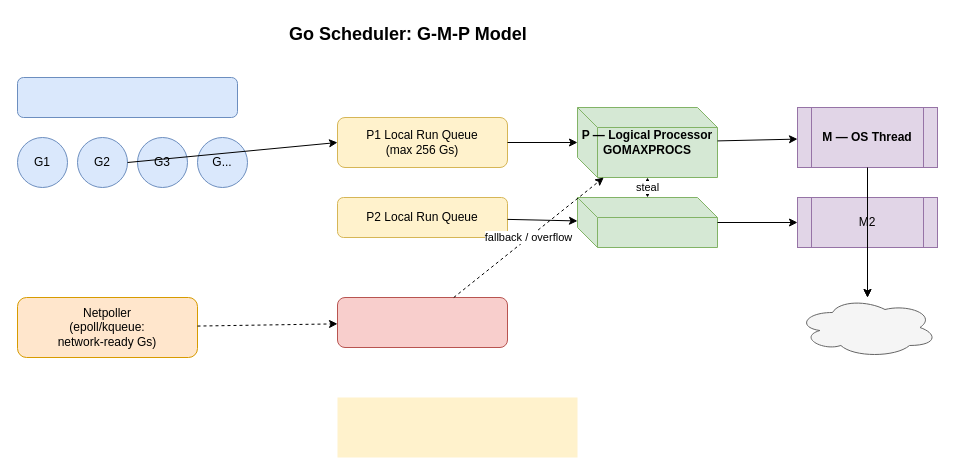
Some shapes in this 955 by 474 pixel diagram are drawn without their labels. Here are the shapes that lost their labels. From the top down, the centre of each, then its label:
the point at 127,97: G — Goroutines (runnable tasks)
the point at 647,222: P2
the point at 422,322: Global Run Queue (shared, needs lock)
the point at 867,327: OS Kernel / CPUs
the point at 457,427: Work stealing: idle P takes half the Gs from a busy P's LRQ
